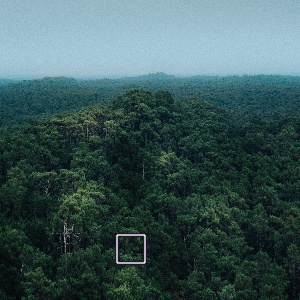square: (115, 232, 146, 265)
